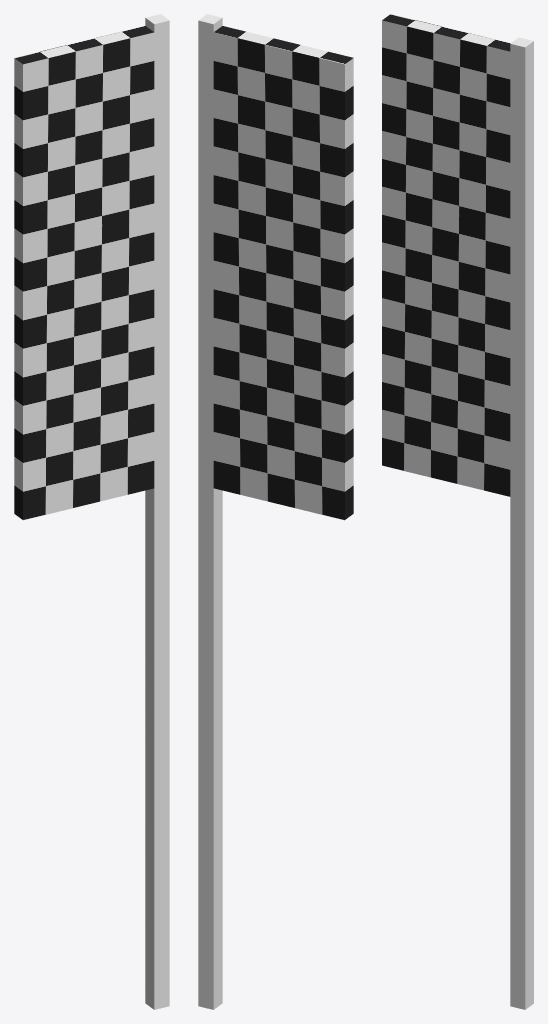
File: flag_checkers.glb
3 renders of one model, left to right at view 1: azimuth 30°, elevation 25°; view 2: azimuth 150°, elevation 25°; view 3: azimuth 330°, elevation 25°, orthographic. The views are drawn at different scales.
Parts seen in each view (by area): view 1: flagCheckers; view 2: flagCheckers; view 3: flagCheckers.
Boxes of the visible parts, x1,y1,x2,y2 form: flagCheckers: (14,14,169,1009); flagCheckers: (198,14,353,1009); flagCheckers: (382,14,533,1009).
Bounding box in the file's own units: 0.19 × 1.22 × 0.02.
Materials: 3 (1 with a texture image).
